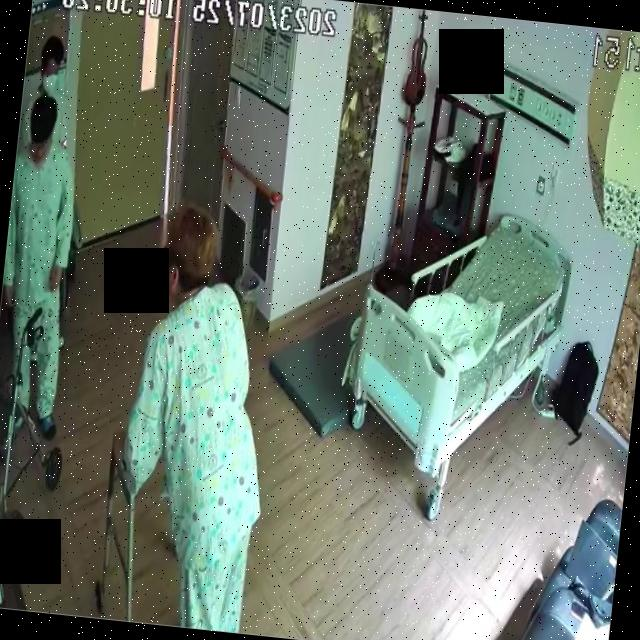bed: (343, 208, 576, 492)
patient: (109, 192, 294, 634), (0, 78, 92, 438)
